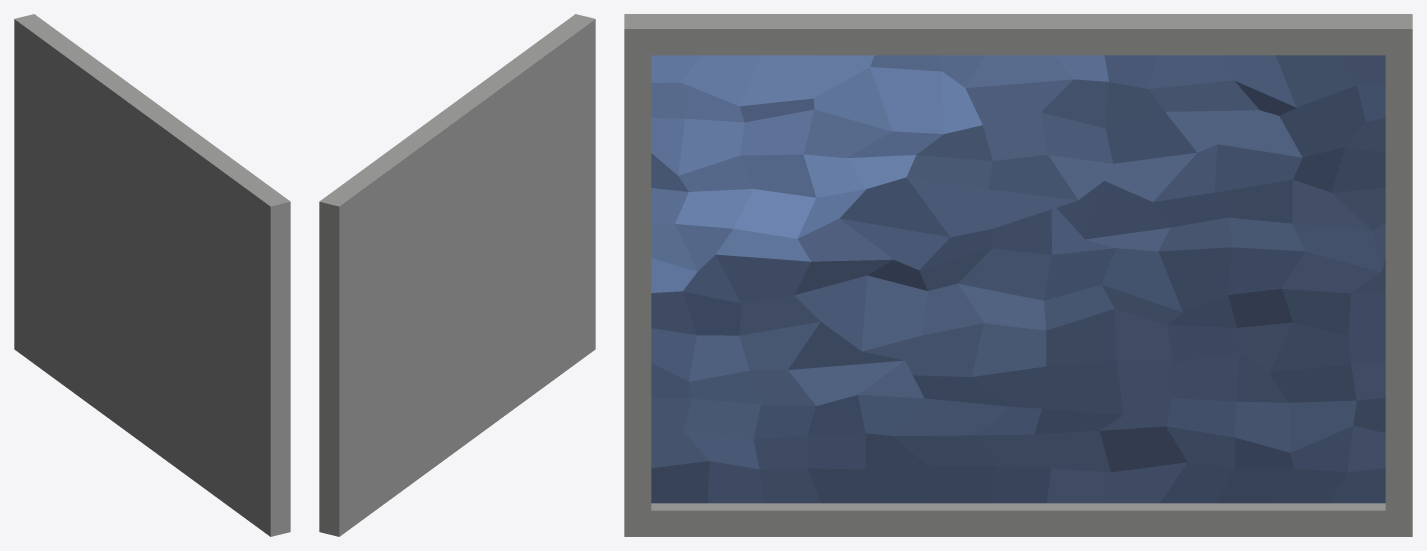
The model's file is Picture.fbx.
3 renders of one model, left to right at view 1: azimuth 30°, elevation 25°; view 2: azimuth 150°, elevation 25°; view 3: azimuth 270°, elevation 25°, orthographic. The views are drawn at different scales.
Visible parts, largest first — view 1: Cube; view 2: Cube; view 3: Cube.
Boxes of the visible parts, x1=… form: Cube: x1=14, y1=14, x2=290, y2=536; Cube: x1=319, y1=14, x2=595, y2=536; Cube: x1=624, y1=14, x2=1412, y2=536.
Bounding box in the file's own units: 30.17 × 472 × 664.
